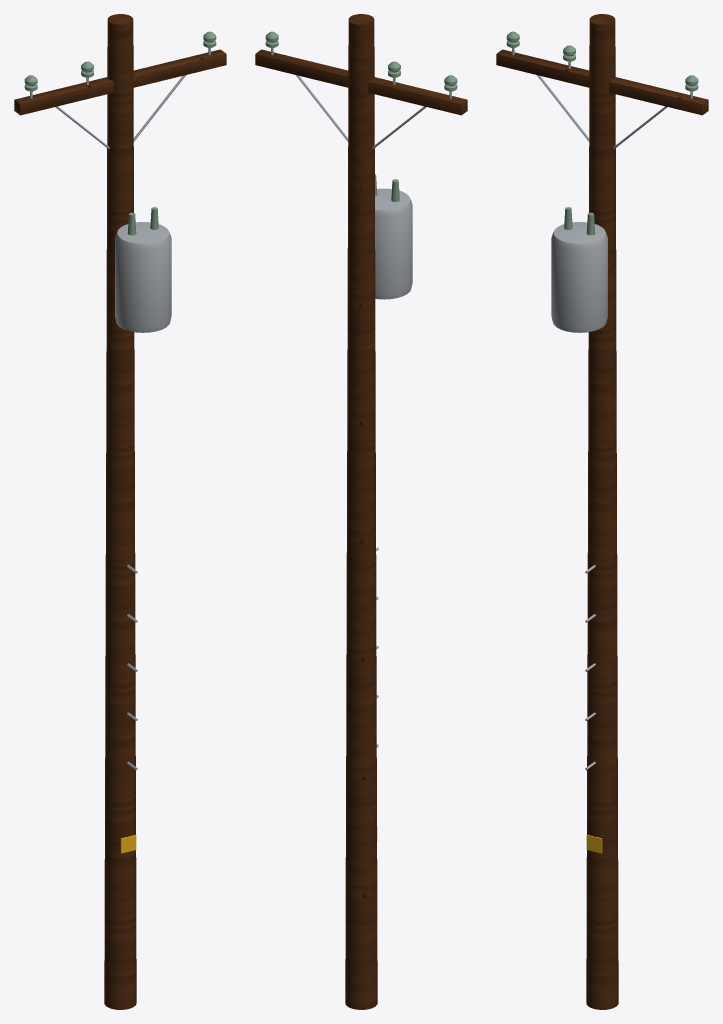
The model's file is utility-pole.glb.
3 renders of one model, left to right at view 1: azimuth 30°, elevation 25°; view 2: azimuth 150°, elevation 25°; view 3: azimuth 330°, elevation 25°, orthographic.
Parts seen in each view (by area): view 1: Utility_Pole; view 2: Utility_Pole; view 3: Utility_Pole.
Part boxes in pixels (left/top/right/bottom): Utility_Pole: left=14, top=14, right=226, bottom=1009; Utility_Pole: left=255, top=14, right=467, bottom=1009; Utility_Pole: left=496, top=14, right=708, bottom=1009.
Size of the model in its own units: 2.2 by 10 by 0.83.
4 materials, 1 textured.
